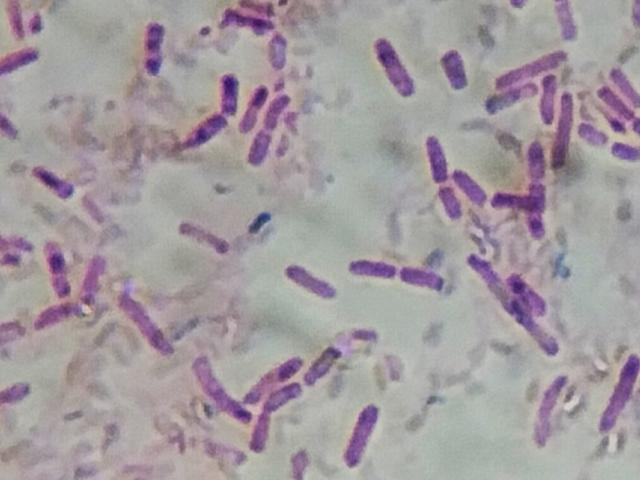E. coli: (192, 355, 250, 427), (600, 344, 640, 438), (117, 289, 169, 357), (530, 375, 572, 450), (487, 49, 575, 82), (284, 256, 342, 306), (373, 35, 416, 102), (516, 307, 565, 359), (554, 85, 581, 174), (527, 139, 552, 233), (245, 357, 301, 397), (347, 404, 381, 467), (180, 220, 232, 259), (473, 255, 511, 304), (42, 235, 71, 299), (400, 261, 452, 295), (298, 346, 342, 385), (36, 165, 81, 202), (0, 49, 45, 85), (439, 47, 470, 96), (456, 164, 491, 206), (510, 274, 553, 307), (80, 252, 104, 311), (249, 125, 278, 173), (147, 17, 167, 82), (428, 132, 453, 184), (250, 410, 275, 461), (30, 302, 80, 327), (193, 115, 227, 151), (488, 87, 535, 112), (350, 257, 398, 281), (609, 132, 640, 169), (2, 376, 34, 410), (440, 181, 467, 221), (614, 66, 640, 107), (268, 385, 307, 412), (227, 6, 267, 32), (242, 82, 264, 129), (219, 71, 243, 114), (554, 0, 580, 39), (266, 28, 290, 69), (576, 116, 606, 148), (266, 91, 292, 127), (540, 70, 558, 120), (493, 189, 530, 212), (3, 115, 22, 145)
